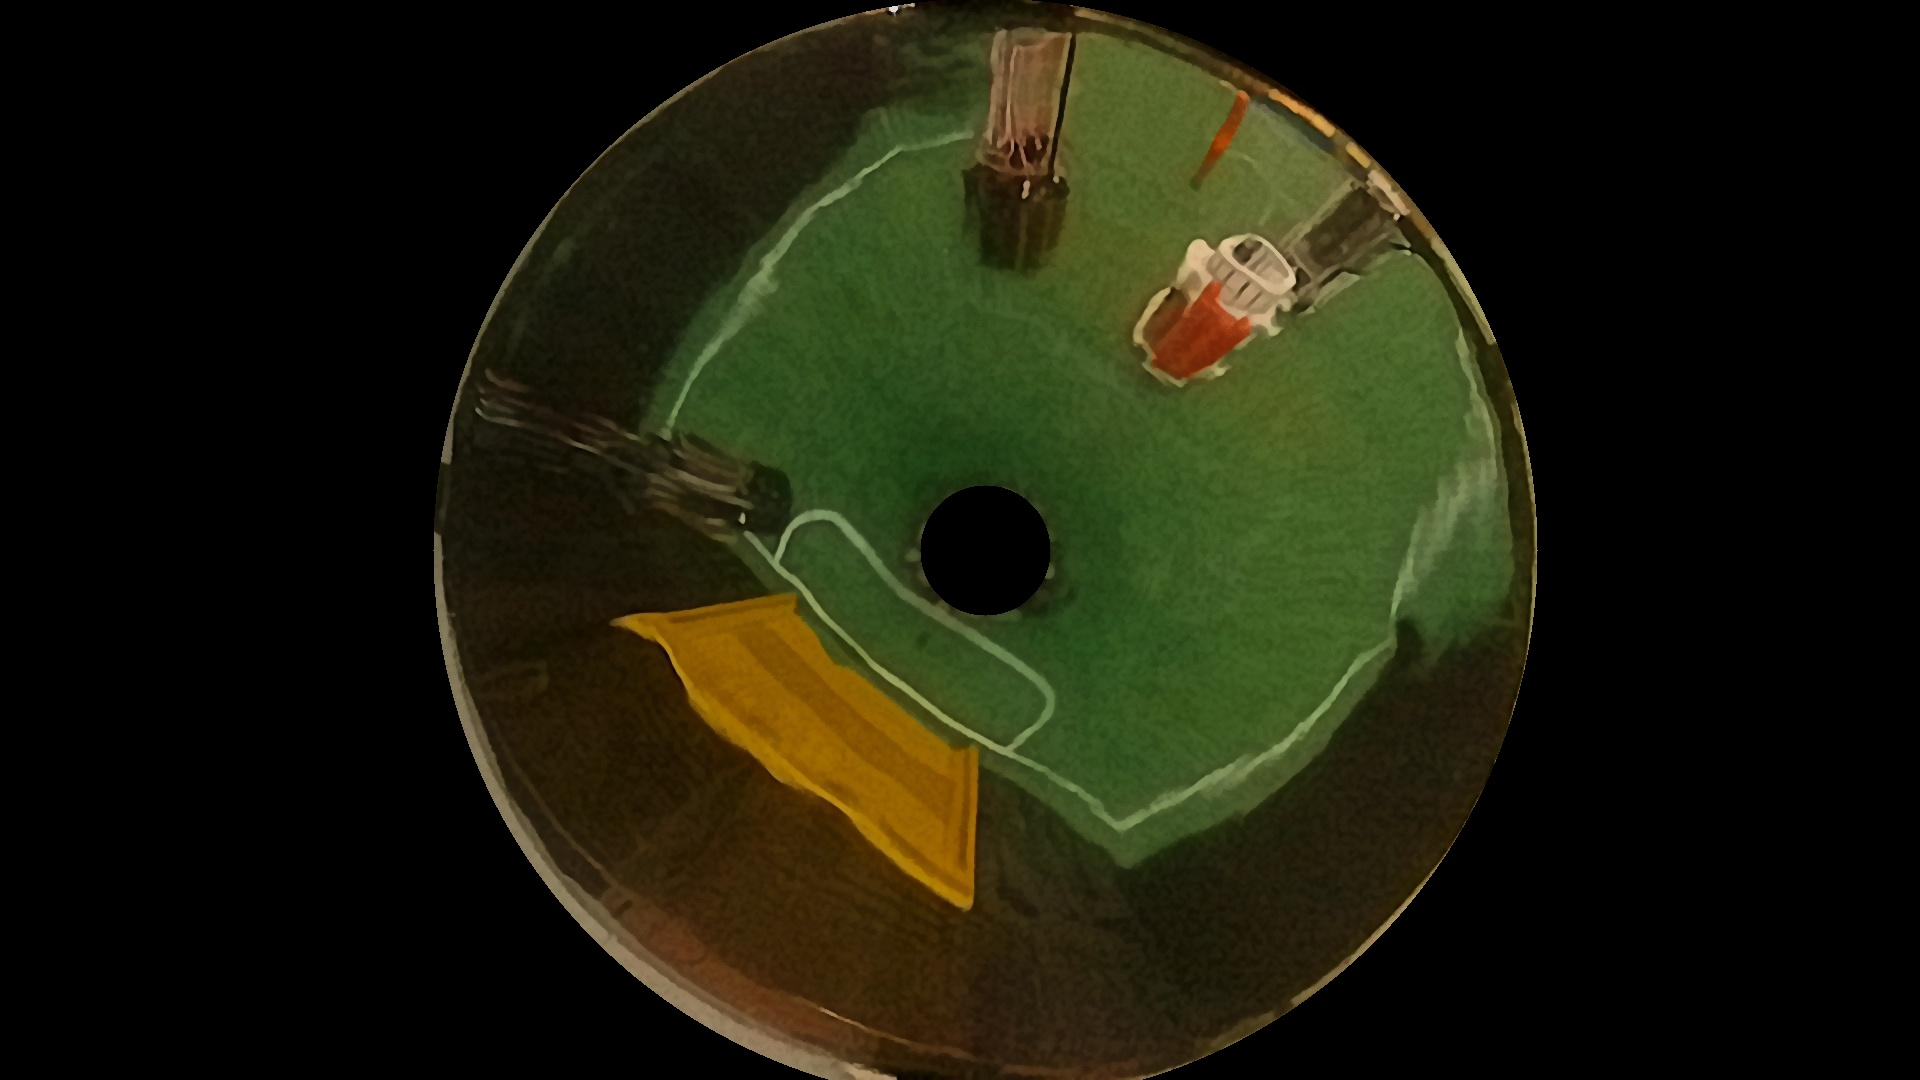ball: (1207, 76, 1265, 166)
robots: (460, 340, 794, 560), (963, 0, 1095, 274), (1138, 224, 1288, 392), (1286, 182, 1408, 332)
yellow-goal: (630, 589, 986, 940)
